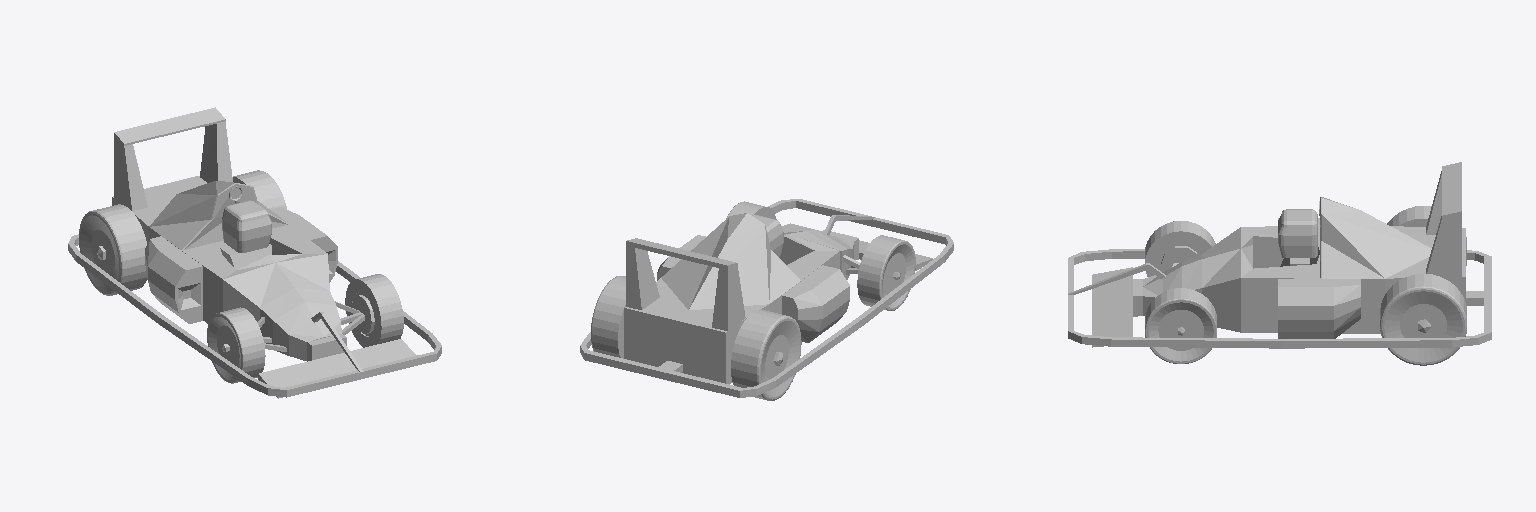
Rendered from flatspot_car.obj.
The picture shows the model from 3 angles: view 1: azimuth 30°, elevation 25°; view 2: azimuth 150°, elevation 25°; view 3: azimuth 270°, elevation 25°; orthographic projection.
Parts seen in each view (by area): view 1: Spec_Chassis, Spec_Bumper, Spec_RearWing, Spec_SidePods, Spec_FrontTire, Spec_RearTire, Spec_FrontWing, Driver_Helmet, Spec_RearTire_Rim, Spec_FrontTire_Rim, WheelSuspension_FrontLeft, Driver_Body; view 2: Spec_Chassis, Spec_Bumper, Spec_RearTire, Spec_RearWing, Spec_SidePods, Spec_FrontTire, Spec_RearTire_Rim, Spec_FrontTire_Rim, Spec_FrontWing, Driver_Helmet; view 3: Spec_Chassis, Spec_Bumper, Spec_SidePods, Spec_RearTire_Rim, Spec_FrontTire, Spec_RearWing, Spec_RearTire, Spec_FrontWing, Spec_FrontTire_Rim, Driver_Helmet, Cockpit, WheelSuspension_FrontRight.
Part boxes in pixels (x1,y1,x2,y2): Spec_Chassis: (112, 176, 341, 360); Spec_Bumper: (68, 234, 441, 397); Spec_RearWing: (114, 107, 232, 210); Spec_SidePods: (145, 207, 337, 323); Spec_FrontTire: (207, 274, 403, 383); Spec_RearTire: (79, 170, 286, 295); Spec_FrontWing: (258, 334, 416, 398); Driver_Helmet: (222, 200, 271, 252); Spec_RearTire_Rim: (80, 215, 118, 291); Spec_FrontTire_Rim: (208, 317, 240, 379); WheelSuspension_FrontLeft: (335, 295, 374, 334); Driver_Body: (220, 244, 271, 269); Spec_Chassis: (624, 213, 853, 384); Spec_Bumper: (580, 199, 953, 397); Spec_RearTire: (591, 276, 801, 400); Spec_RearWing: (626, 238, 745, 330); Spec_SidePods: (657, 235, 849, 342); Spec_FrontTire: (726, 201, 915, 310); Spec_RearTire_Rim: (761, 321, 799, 396); Spec_FrontTire_Rim: (882, 244, 914, 307); Spec_FrontWing: (782, 223, 932, 270); Driver_Helmet: (752, 215, 783, 256); Spec_Chassis: (1143, 197, 1465, 333); Spec_Bumper: (1068, 249, 1491, 348); Spec_SidePods: (1278, 218, 1360, 338); Spec_RearTire_Rim: (1384, 291, 1462, 362); Spec_FrontTire: (1145, 221, 1216, 363); Spec_RearWing: (1426, 162, 1461, 276); Spec_RearTire: (1380, 206, 1466, 365); Spec_FrontWing: (1092, 267, 1142, 347); Spec_FrontTire_Rim: (1149, 302, 1213, 361); Driver_Helmet: (1278, 209, 1317, 257); Cockpit: (1253, 236, 1319, 268); WheelSuspension_FrontRight: (1161, 246, 1197, 271).
Bounding box in the file's own units: 1.1 × 0.76 × 2.1.